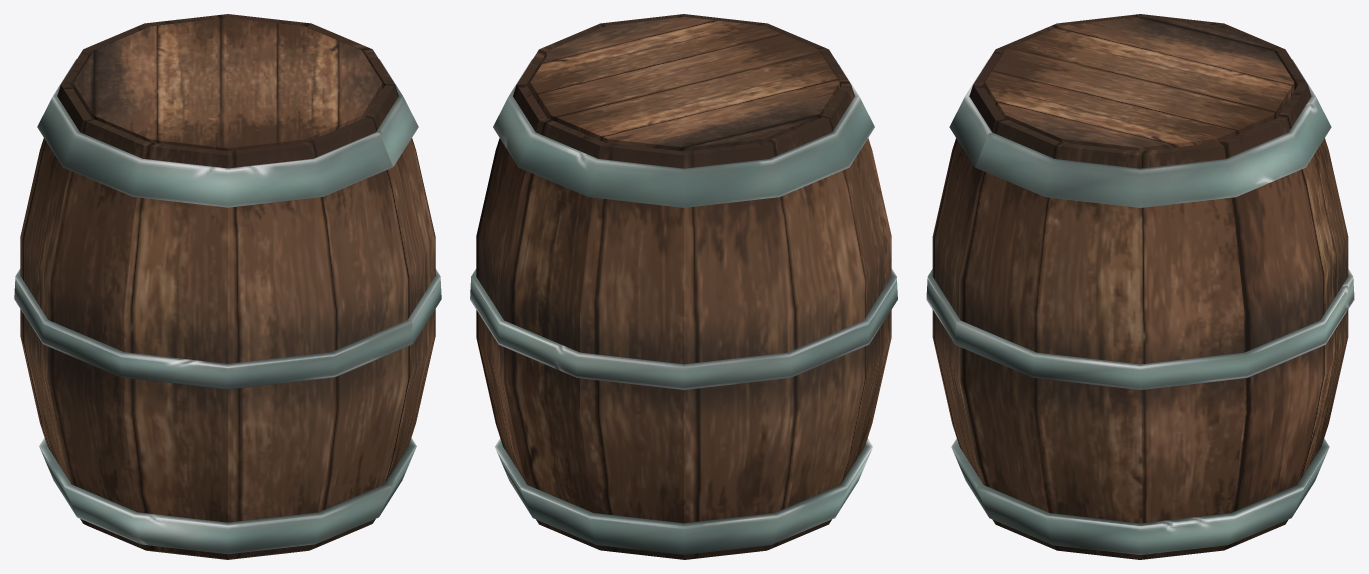
File: barrel_006.fbx
The picture shows the model from 3 angles, left to right: view 1: azimuth 30°, elevation 25°; view 2: azimuth 150°, elevation 25°; view 3: azimuth 270°, elevation 25°; orthographic projection.
Visible parts, largest first — view 1: barrel_0061; view 2: barrel_0061; view 3: barrel_0061.
Boxes of the visible parts, box(x1,y1,x2,y2) form: barrel_0061: box(14, 14, 441, 559); barrel_0061: box(470, 14, 897, 559); barrel_0061: box(926, 14, 1354, 559).
Bounding box in the file's own units: 23.99 × 25.27 × 23.99.
